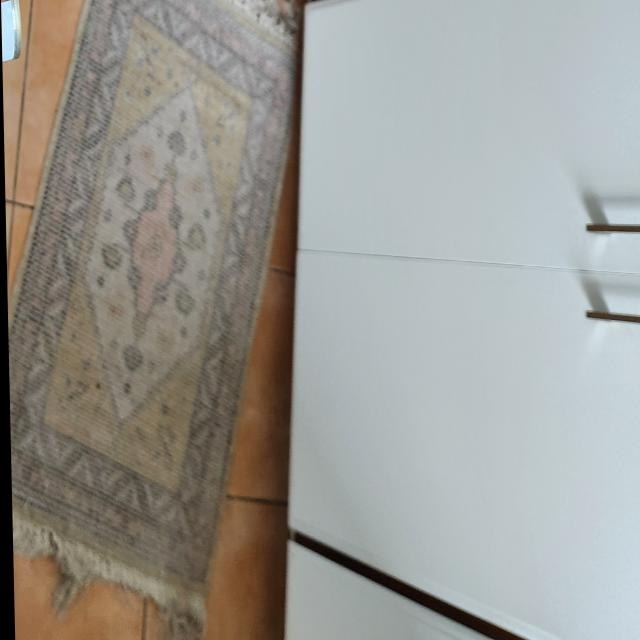tomato sauce: (0, 0, 23, 102)
